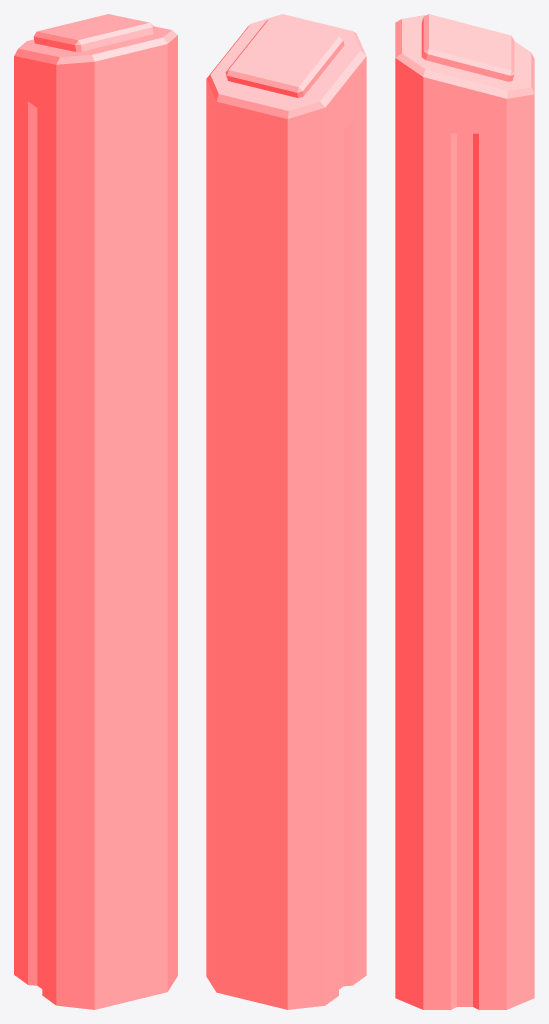
File: button.fbx
The picture shows the model from 3 angles, left to right: view 1: azimuth 30°, elevation 25°; view 2: azimuth 150°, elevation 25°; view 3: azimuth 270°, elevation 25°; orthographic projection. The views are drawn at different scales.
Visible parts, largest first — view 1: Cube, Cube.001; view 2: Cube, Cube.001; view 3: Cube, Cube.001.
Part boxes in pixels (x1,y1,x2,y2): Cube: (14, 26, 177, 1009); Cube.001: (33, 14, 155, 51); Cube: (206, 14, 366, 1009); Cube.001: (225, 19, 344, 97); Cube: (395, 15, 534, 1009); Cube.001: (421, 14, 514, 81).
Size of the model in its own units: 22.43 by 169 by 22.43.
